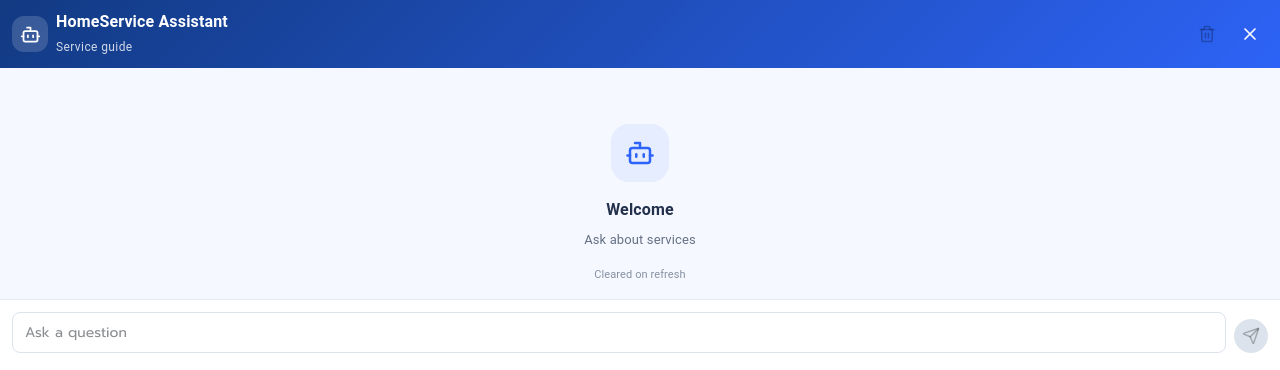
Test: ChatbotPanel › shows unavailable services without a link
Type "Old recommendation" into the text box named "AI message" at (619, 333), box [12,312,1226,353]
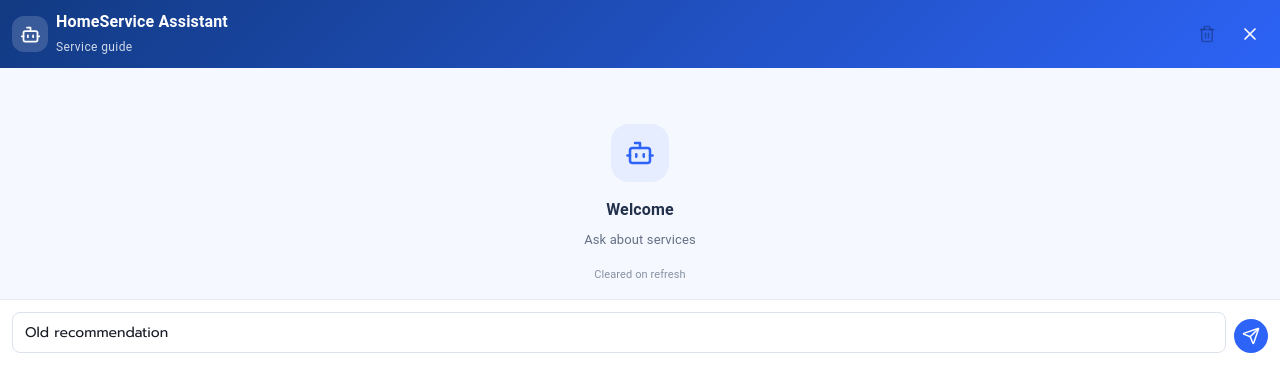
Click the button named "Send" at (1251, 336), box [1234,319,1268,353]
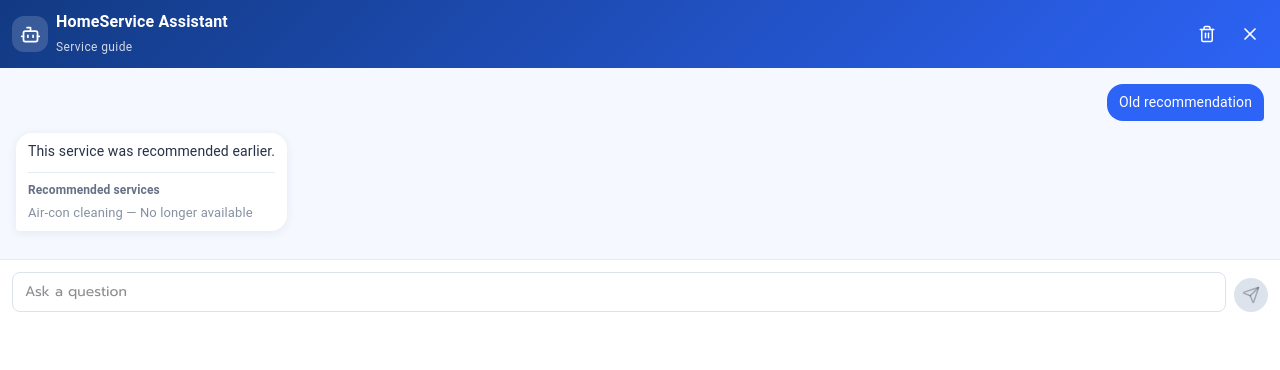
Now the text "Air-con cleaning — No longer available" is shown, box [28,203,275,222]
